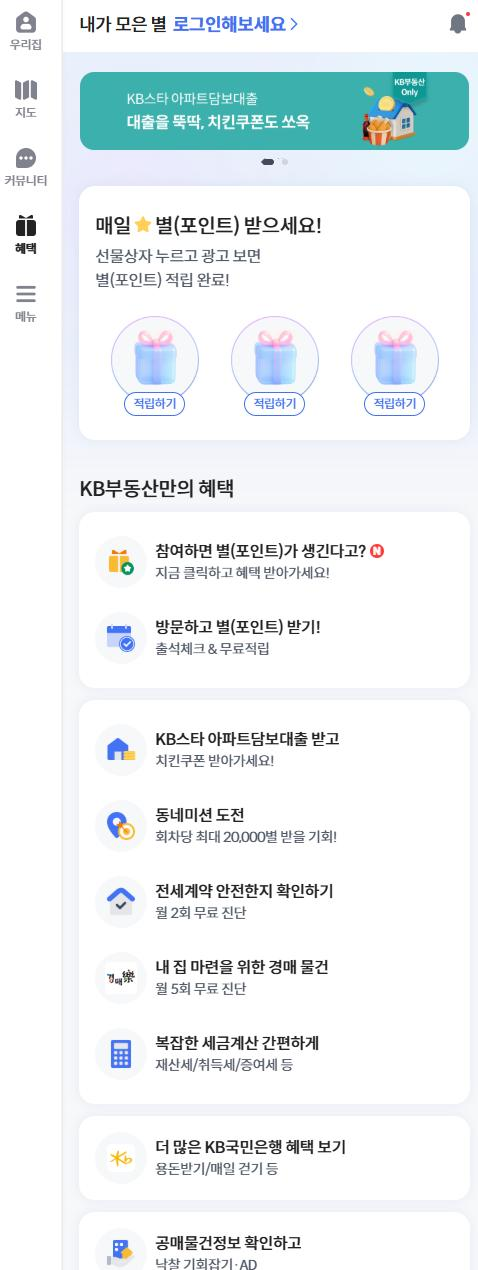button: (77, 72, 468, 148), (165, 7, 317, 48), (2, 282, 68, 340), (0, 0, 55, 63), (0, 210, 60, 263), (10, 148, 65, 200), (0, 78, 53, 123), (443, 0, 477, 40), (372, 390, 422, 417), (248, 388, 303, 412), (118, 398, 187, 413)
